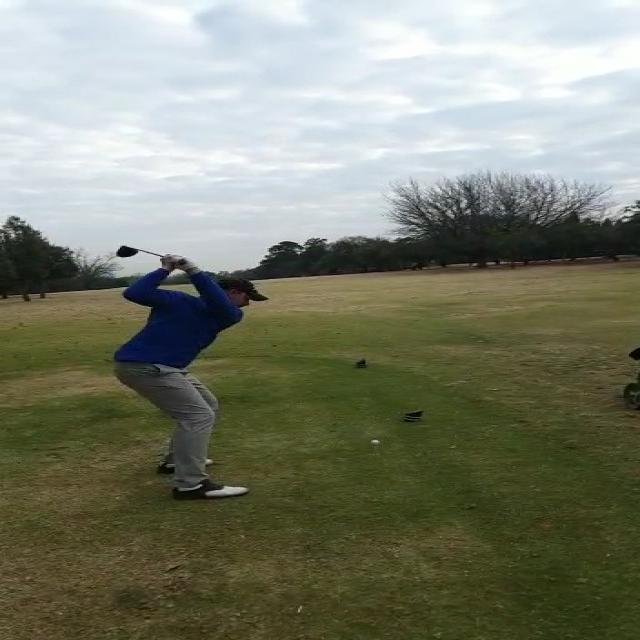club head: (114, 244, 140, 258)
